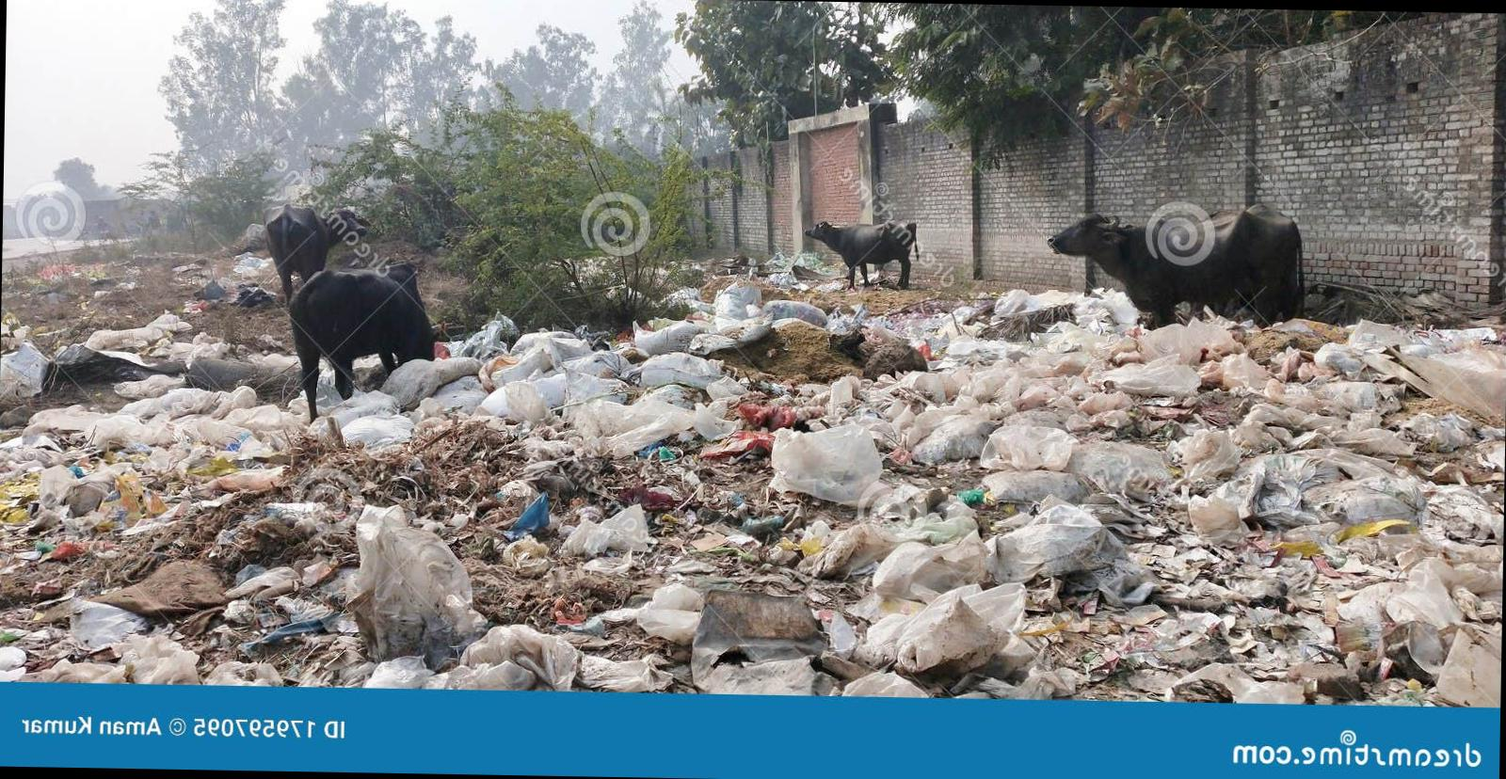sky: (3, 0, 215, 200), (354, 0, 639, 71), (279, 0, 329, 76)
trash: (535, 317, 1506, 706)
